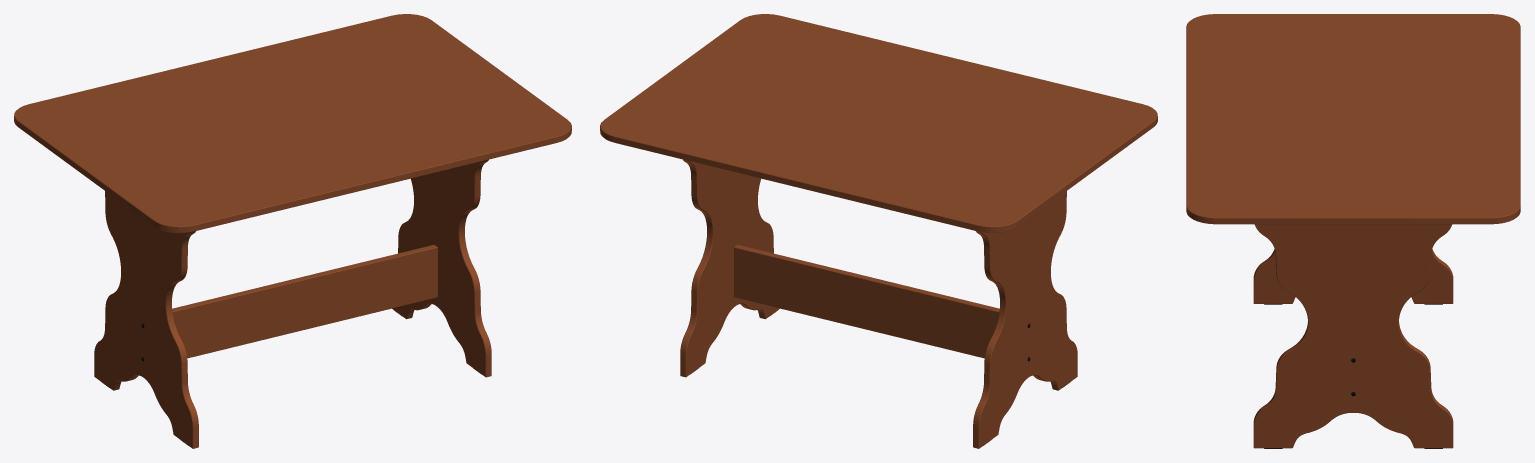
File: Table.FBX
3 views of the same model, side by side, from view 1: azimuth 30°, elevation 25°; view 2: azimuth 150°, elevation 25°; view 3: azimuth 270°, elevation 25° (orthographic).
Visible parts, largest first — view 1: Rectangle001, Line001, Rectangle002, Line002; view 2: Rectangle001, Line001, Rectangle002, Line002; view 3: Rectangle001, Line002, Line001.
Part boxes in pixels (left/top/right/bottom): Rectangle001: left=14, top=14, right=571, bottom=232; Line001: left=94, top=191, right=198, bottom=448; Rectangle002: left=172, top=245, right=437, bottom=358; Line002: left=392, top=159, right=491, bottom=377; Rectangle001: left=600, top=14, right=1157, bottom=232; Line001: left=973, top=191, right=1077, bottom=448; Rectangle002: left=734, top=245, right=999, bottom=358; Line002: left=680, top=159, right=779, bottom=377; Rectangle001: left=1186, top=14, right=1520, bottom=224; Line002: left=1253, top=224, right=1453, bottom=448; Line001: left=1253, top=249, right=1453, bottom=303.
Bounding box in the file's own units: 1300 × 773 × 900.
